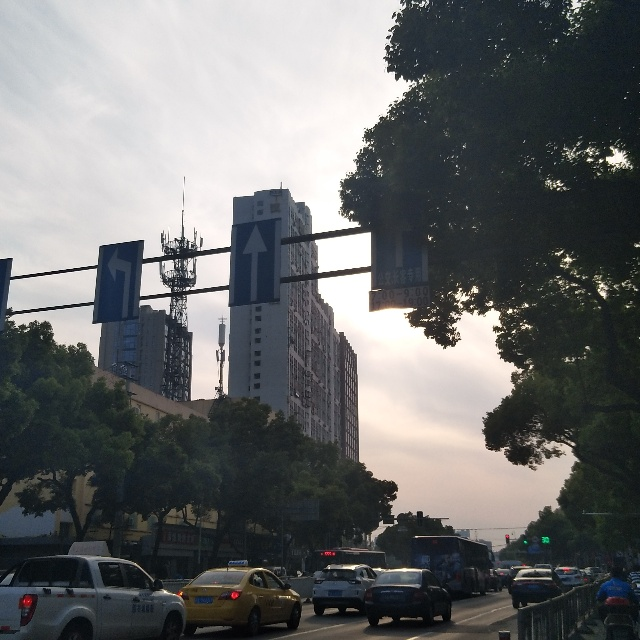left: (101, 250, 140, 321)
straight: (233, 225, 281, 304), (376, 217, 420, 280)
